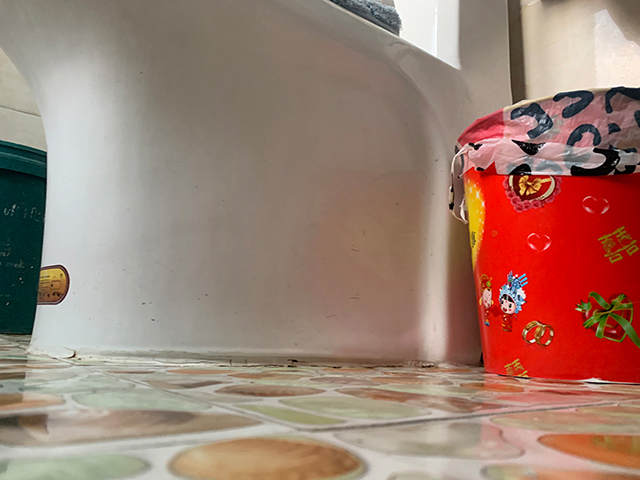closestool: (1, 1, 510, 367)
trashcan: (454, 84, 640, 384)
